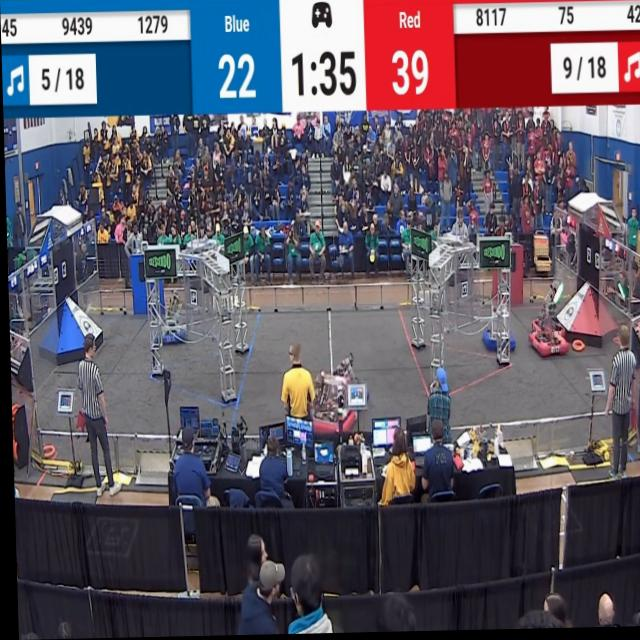Robot: (306, 363, 354, 440), (524, 292, 565, 364), (476, 289, 514, 361), (156, 286, 186, 349)
